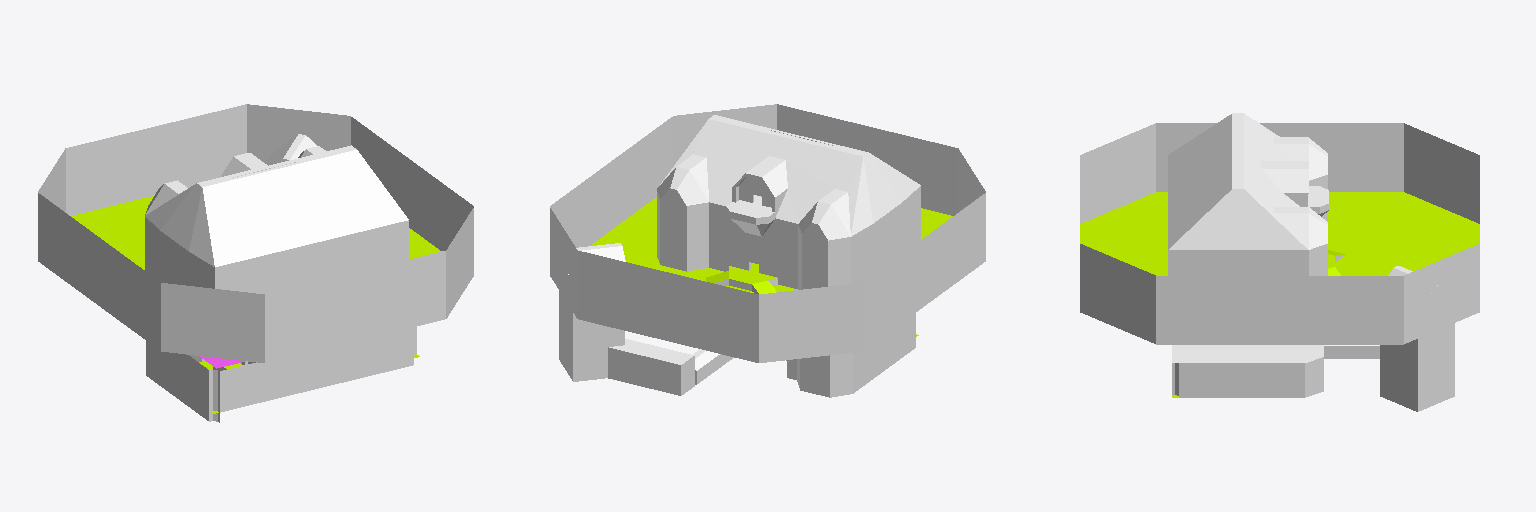
Rendered from Haunted House Area 1.obj.
The picture shows the model from 3 angles: view 1: azimuth 30°, elevation 25°; view 2: azimuth 150°, elevation 25°; view 3: azimuth 270°, elevation 25°; orthographic projection.
Bounding box in the file's own units: 19454 × 12514 × 21502.